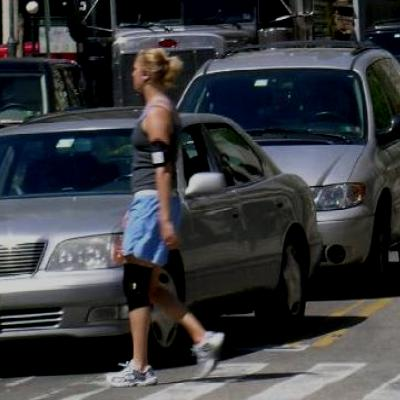ped: (107, 49, 224, 386)
